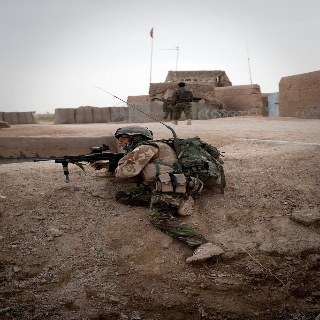rifle: (34, 144, 126, 177)
